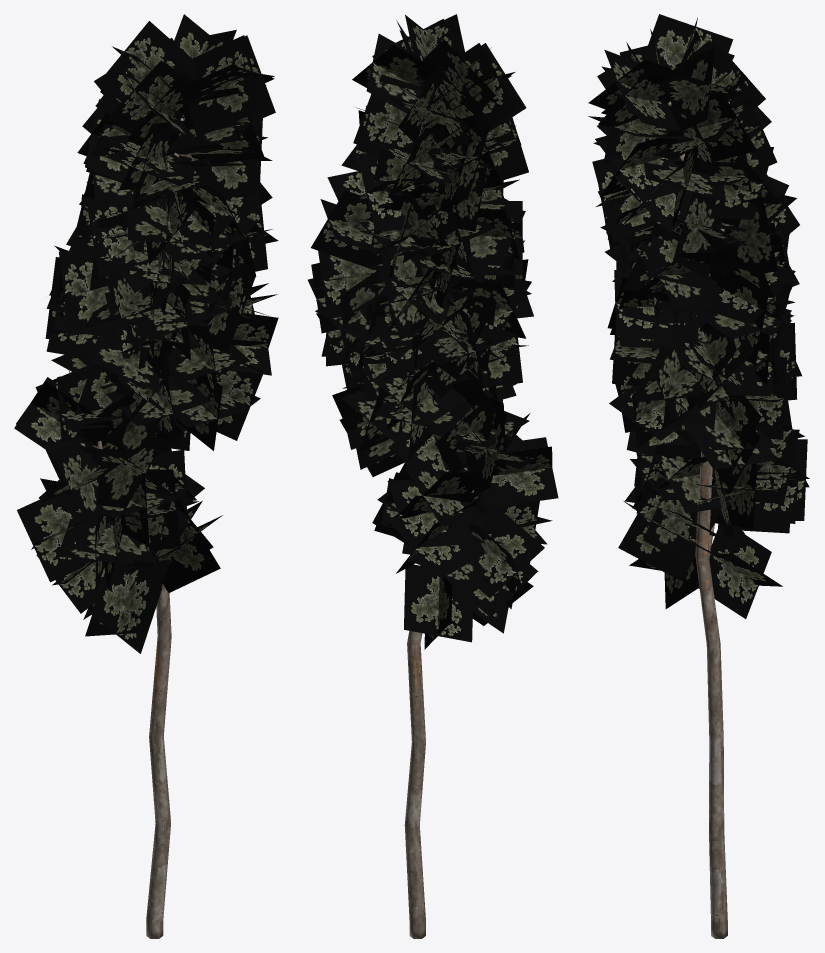
Rendered from fol3.glb.
3 renders of one model, left to right at view 1: azimuth 30°, elevation 25°; view 2: azimuth 150°, elevation 25°; view 3: azimuth 270°, elevation 25°, orthographic. The views are drawn at different scales.
Visible parts, largest first — view 1: ScotchFirMediumLOD0; view 2: ScotchFirMediumLOD0; view 3: ScotchFirMediumLOD0.
Part boxes in pixels (x1,y1,x2,y2): ScotchFirMediumLOD0: (14, 14, 278, 938); ScotchFirMediumLOD0: (307, 14, 558, 938); ScotchFirMediumLOD0: (588, 14, 809, 938).
Bounding box in the file's own units: 6.46 × 23.88 × 5.29.
Materials: 2 (2 with a texture image).
